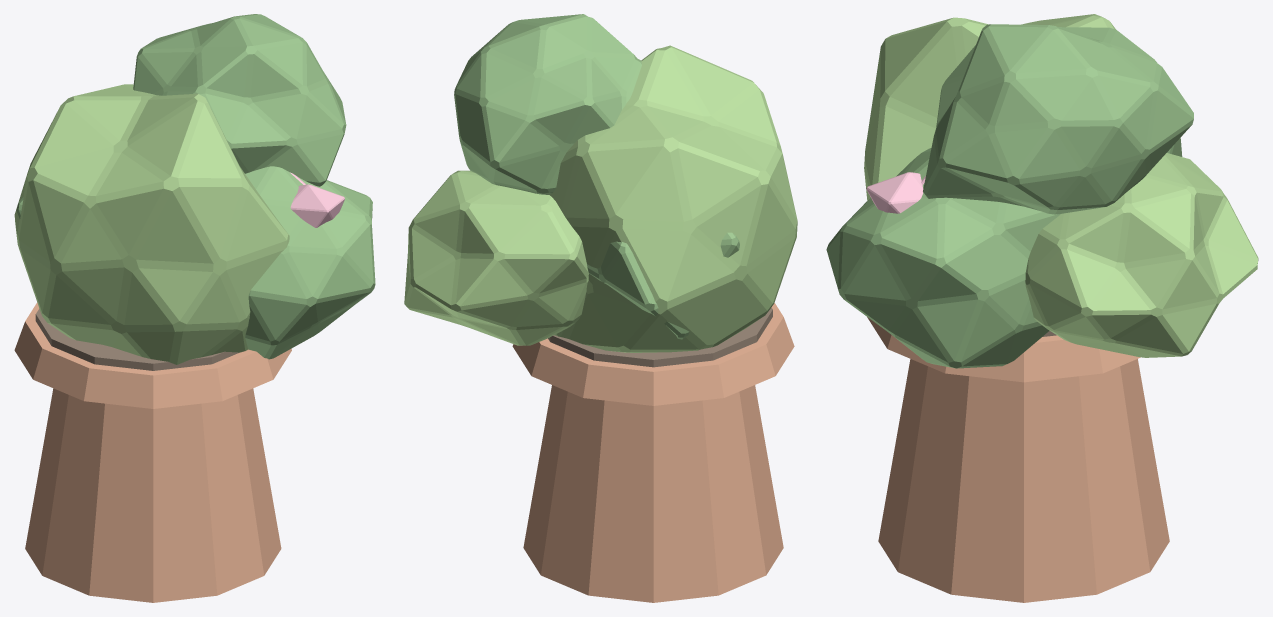
The model's file is Veg_Pot_A.fbx.
3 views of the same model, side by side, from view 1: azimuth 30°, elevation 25°; view 2: azimuth 150°, elevation 25°; view 3: azimuth 270°, elevation 25° (orthographic). The views are drawn at different scales.
Parts seen in each view (by area): view 1: Veg_Pot_A_Veg, Veg_Pot_A; view 2: Veg_Pot_A_Veg, Veg_Pot_A; view 3: Veg_Pot_A_Veg, Veg_Pot_A.
Boxes of the visible parts, x1,y1,x2,y2 form: Veg_Pot_A_Veg: (14, 14, 375, 364); Veg_Pot_A: (14, 302, 291, 602); Veg_Pot_A_Veg: (404, 14, 797, 352); Veg_Pot_A: (512, 303, 794, 602); Veg_Pot_A_Veg: (826, 14, 1258, 368); Veg_Pot_A: (867, 317, 1169, 602).
Size of the model in its own units: 0.6966 by 1.03 by 0.7114.
